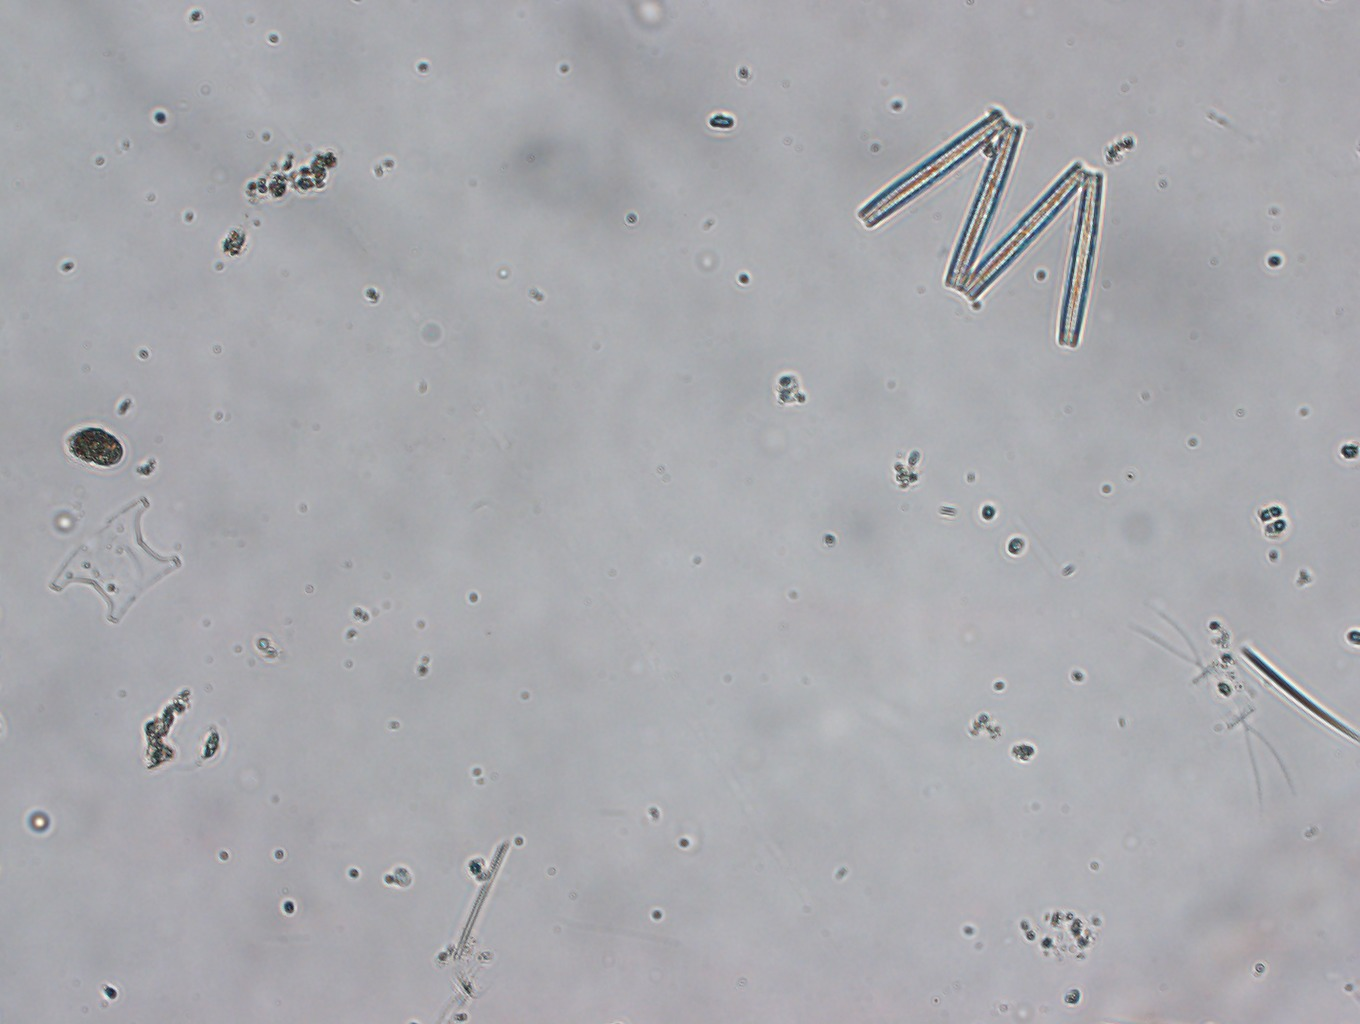chaetoceros: (1131, 601, 1298, 811)
eucampia: (48, 495, 181, 626)
thalassionema nitzschioides: (855, 109, 1106, 349)
